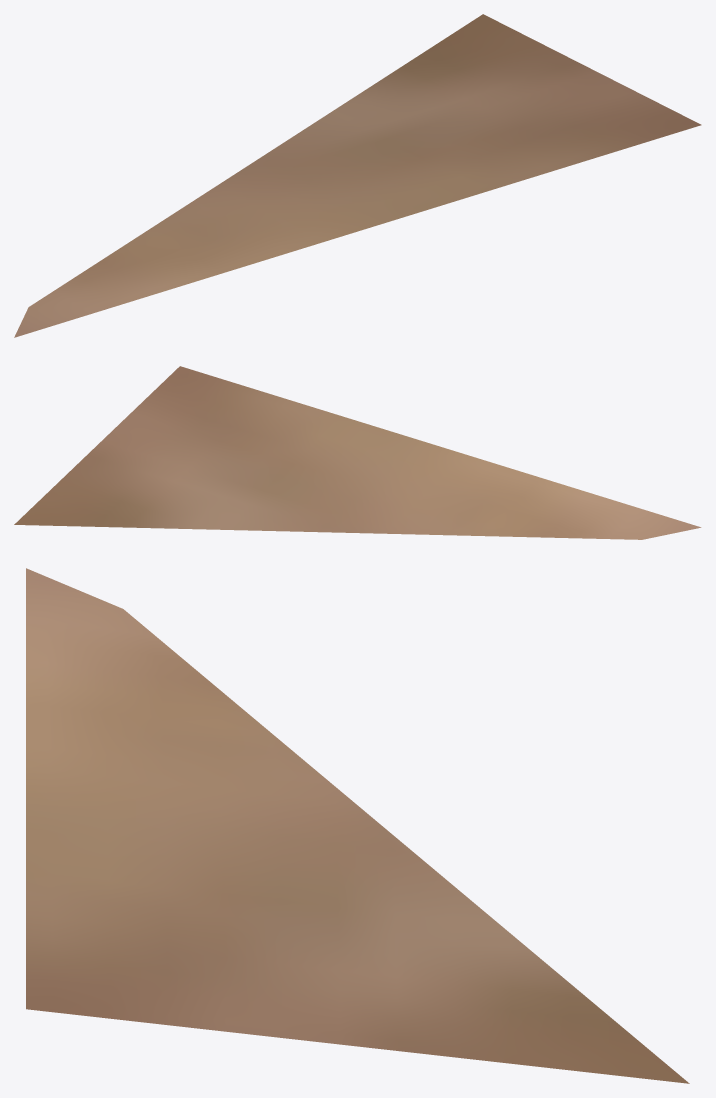
3 views of the same model, one above another, from view 1: azimuth 30°, elevation 25°; view 2: azimuth 150°, elevation 25°; view 3: azimuth 270°, elevation 25° (orthographic). The views are drawn at different scales.
Size of the model in its own units: 0.1697 by 0.0116 by 0.0935.
Materials: 1 (1 with a texture image).
